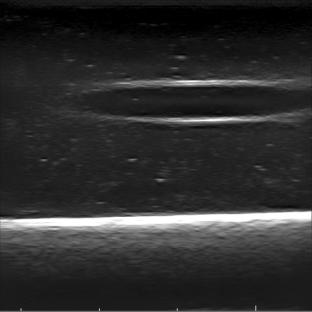vessel: (82, 77, 311, 125)
